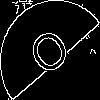O: (25, 25, 80, 86)
